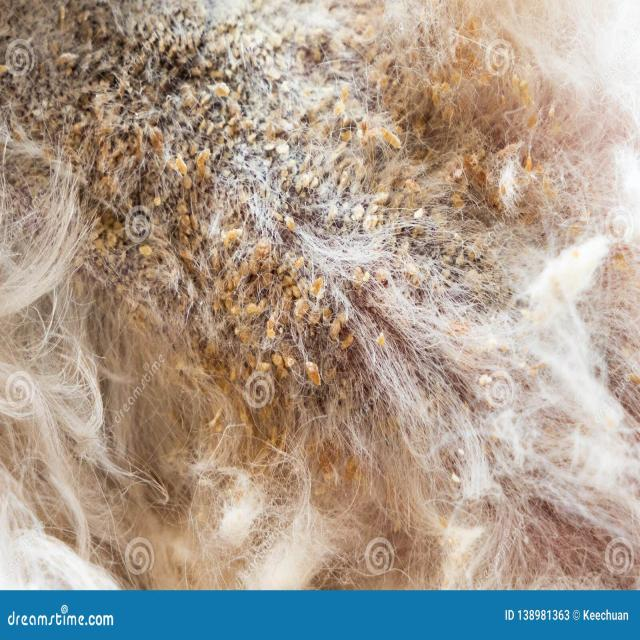fungal infection: (0, 2, 302, 315), (286, 99, 434, 267), (194, 269, 369, 399), (435, 99, 555, 228), (346, 26, 482, 129), (364, 217, 504, 313)
